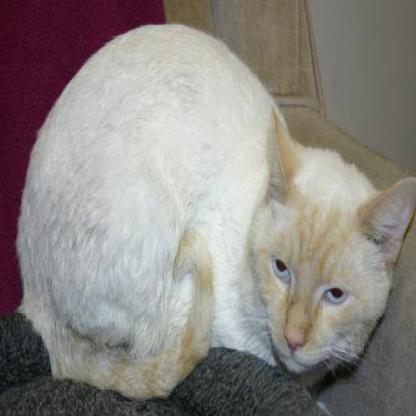cat: (83, 35, 396, 384)
